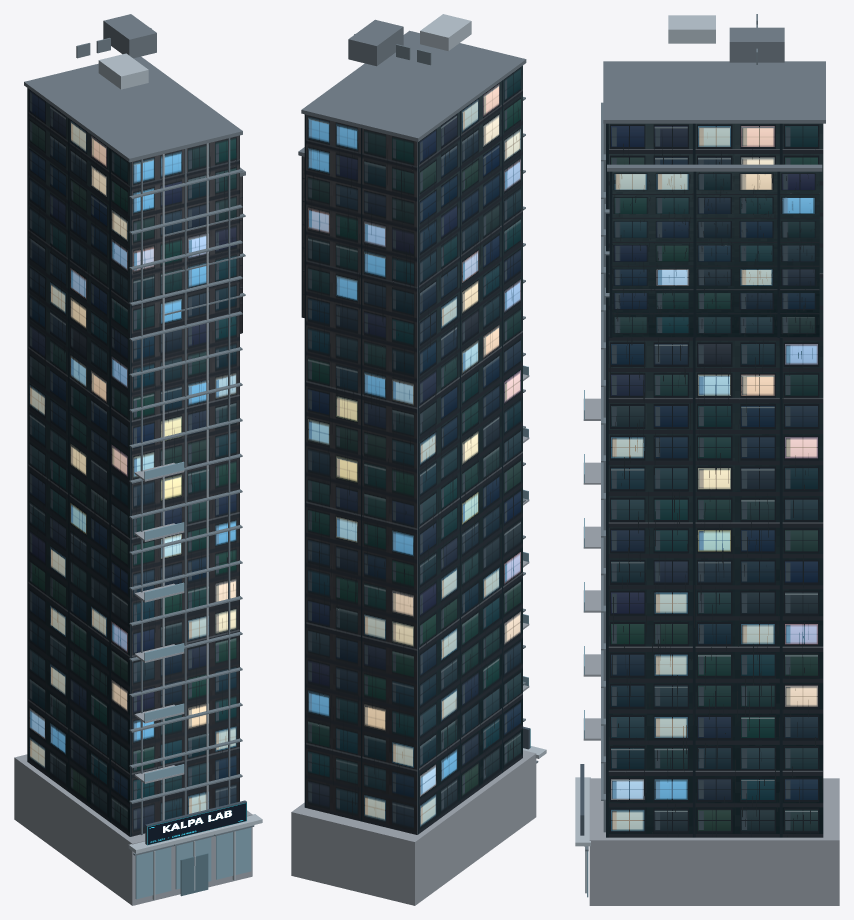
Rendered from building_05.glb.
3 renders of one model, left to right at view 1: azimuth 30°, elevation 25°; view 2: azimuth 150°, elevation 25°; view 3: azimuth 270°, elevation 25°, orthographic. The views are drawn at different scales.
Parts seen in each view (by area): view 1: facade_sideb_3, facade_0, frame, roof, concrete, glass, alum, sign_8, tint, facade_side_2; view 2: facade_back_1, facade_sideb_3, concrete, roof, alum, facade_back_5, frame; view 3: facade_side_2, facade_side_6, concrete, roof, frame, alum.
Part boxes in pixels (left/top/right/bottom): facade_sideb_3: left=27, top=88, right=129, bottom=836; facade_0: left=130, top=135, right=239, bottom=836; frame: left=76, top=28, right=254, bottom=855; roof: left=24, top=14, right=245, bottom=176; concrete: left=14, top=162, right=252, bottom=905; glass: left=135, top=461, right=251, bottom=899; alum: left=98, top=53, right=262, bottom=900; sign_8: left=147, top=802, right=246, bottom=845; tint: left=180, top=853, right=208, bottom=896; facade_side_2: left=239, top=135, right=239, bottom=801; facade_back_1: left=304, top=114, right=417, bottom=834; facade_sideb_3: left=417, top=65, right=522, bottom=834; concrete: left=291, top=142, right=536, bottom=905; roof: left=298, top=19, right=526, bottom=156; alum: left=420, top=14, right=546, bottom=758; facade_back_5: left=301, top=156, right=304, bottom=317; frame: left=354, top=34, right=538, bottom=763; facade_side_2: left=606, top=123, right=823, bottom=837; facade_side_6: left=609, top=171, right=819, bottom=337; concrete: left=583, top=398, right=839, bottom=905; roof: left=603, top=27, right=825, bottom=171; frame: left=585, top=14, right=757, bottom=851; alum: left=575, top=15, right=715, bottom=893.
Size of the model in its own units: 16.2 by 98.2 by 27.7.
18 materials, 9 textured.
